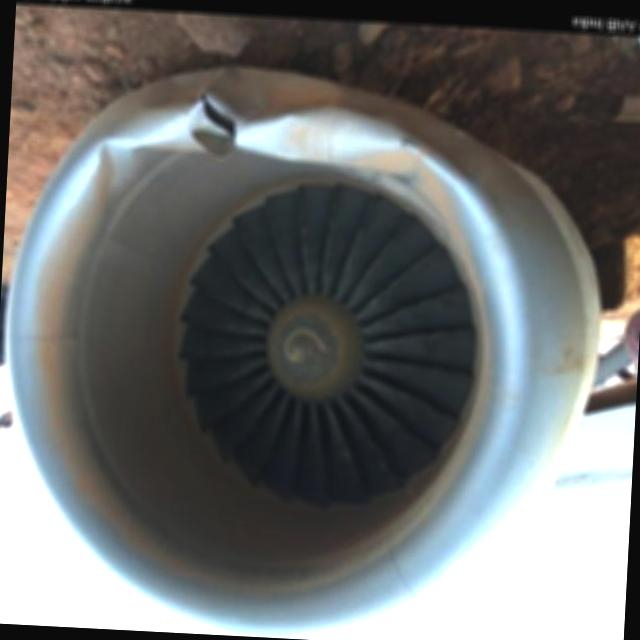crack: (196, 88, 241, 146)
dent: (232, 100, 410, 168), (91, 142, 139, 197)
